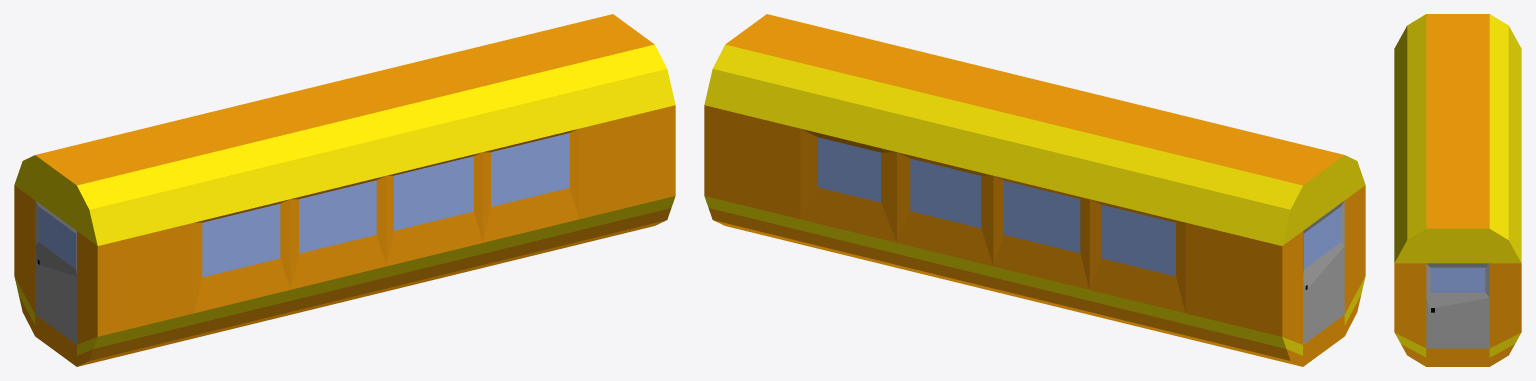
File: Train_Body 1.fbx
The picture shows the model from 3 angles, left to right: view 1: azimuth 30°, elevation 25°; view 2: azimuth 150°, elevation 25°; view 3: azimuth 270°, elevation 25°; orthographic projection. The views are drawn at different scales.
Parts seen in each view (by area): view 1: Train_Body; view 2: Train_Body; view 3: Train_Body.
Boxes of the visible parts, box(x1,y1,x2,y2) form: Train_Body: box(14, 14, 675, 366); Train_Body: box(704, 14, 1365, 366); Train_Body: box(1394, 14, 1521, 366).
Size of the model in its own units: 400 by 120 by 100.
